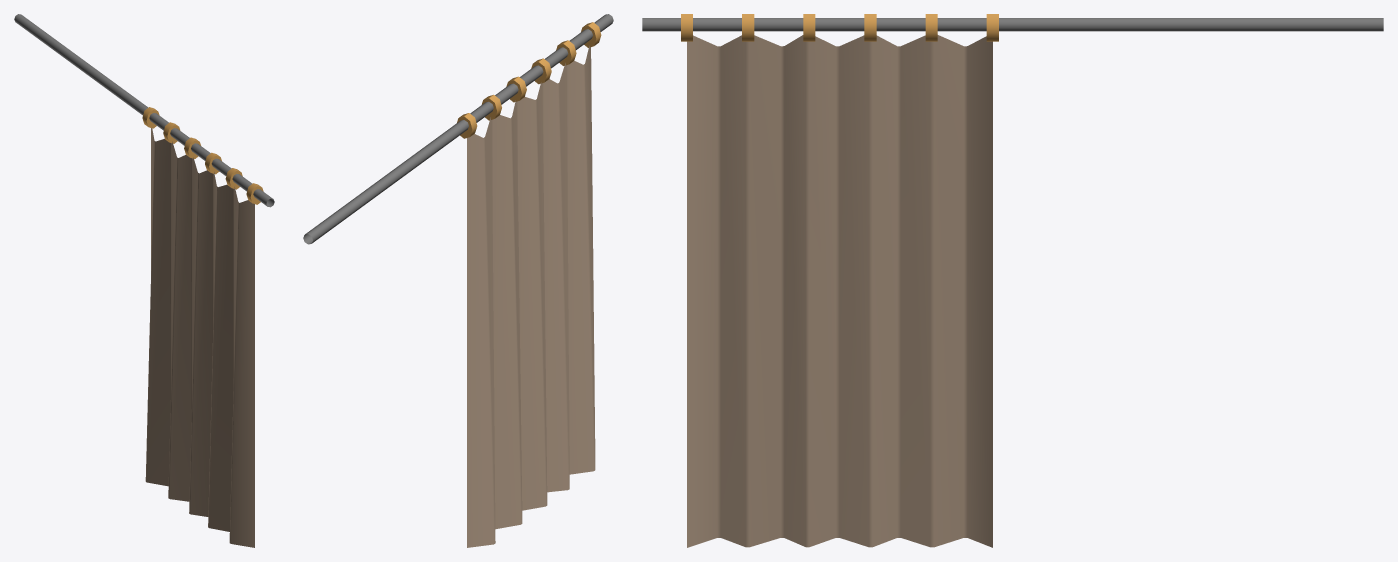
The model's file is S_BathtubCurtain.fbx.
The picture shows the model from 3 angles, left to right: view 1: azimuth 30°, elevation 25°; view 2: azimuth 150°, elevation 25°; view 3: azimuth 270°, elevation 25°; orthographic projection. The views are drawn at different scales.
Parts seen in each view (by area): view 1: S_BathtubCurtain; view 2: S_BathtubCurtain; view 3: S_BathtubCurtain.
Boxes of the visible parts, x1,y1,x2,y2 form: S_BathtubCurtain: (14,14,274,547); S_BathtubCurtain: (303,14,613,547); S_BathtubCurtain: (642,14,1383,547).
Bounding box in the file's own units: 14.95 × 244 × 307.
